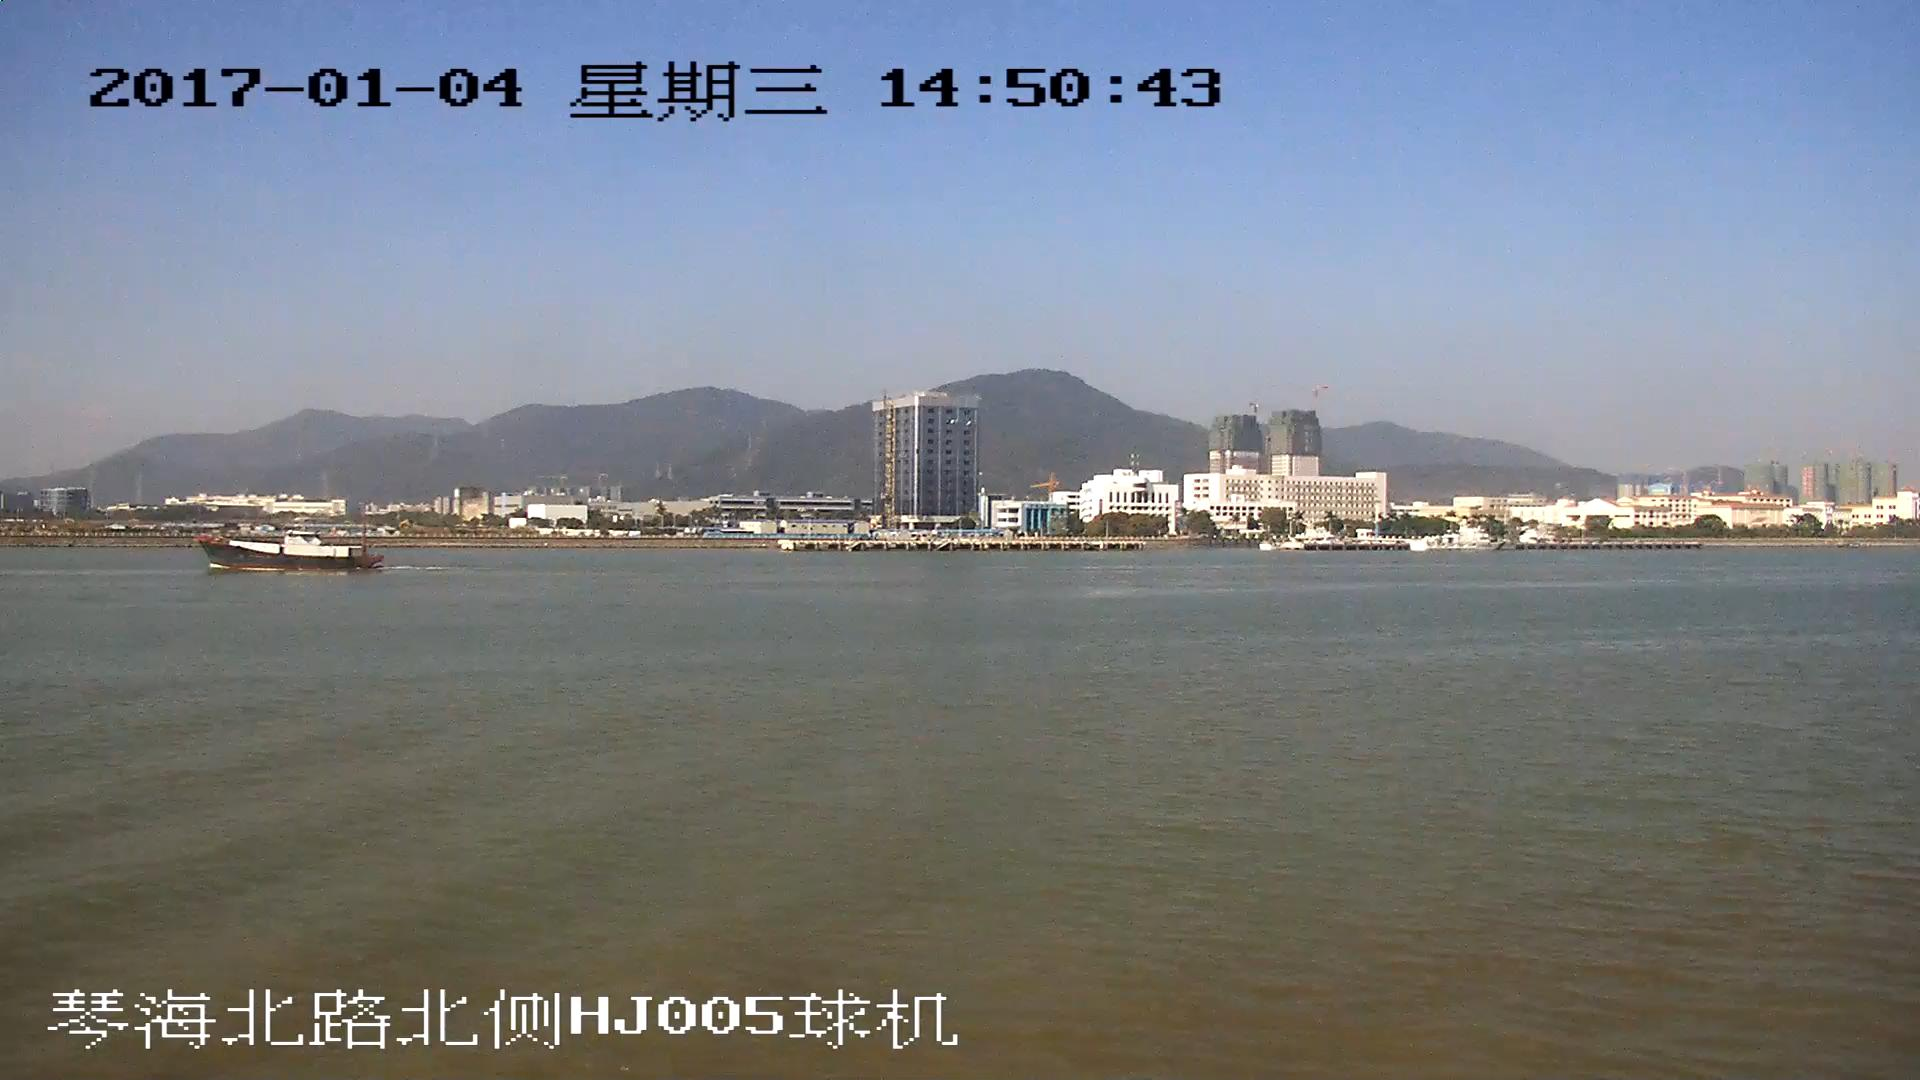fishing boat: (201, 533, 374, 573)
